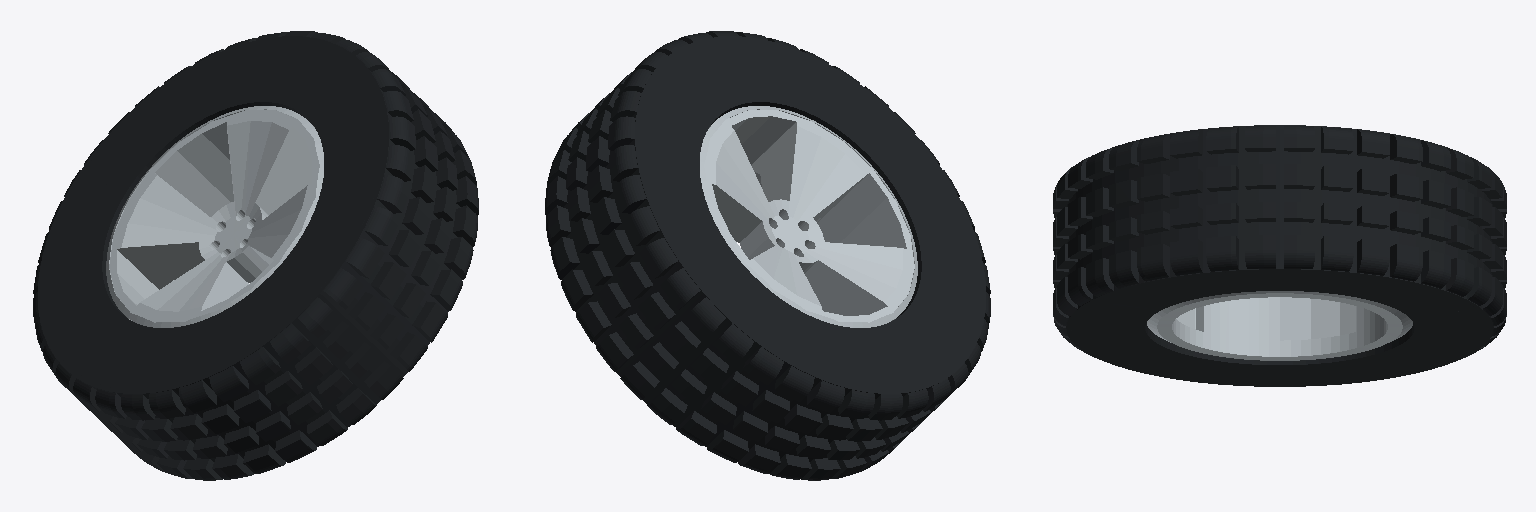
Rendered from tinker.obj.
3 renders of one model, left to right at view 1: azimuth 30°, elevation 25°; view 2: azimuth 150°, elevation 25°; view 3: azimuth 270°, elevation 25°, orthographic.
Parts seen in each view (by area): view 1: obj_0; view 2: obj_0; view 3: obj_0.
Boxes of the visible parts, x1=… form: obj_0: x1=33, y1=31, x2=478, y2=480; obj_0: x1=545, y1=31, x2=990, y2=480; obj_0: x1=1053, y1=125, x2=1506, y2=386.
Bounding box in the file's own units: 24.99 × 23.23 × 26.59.